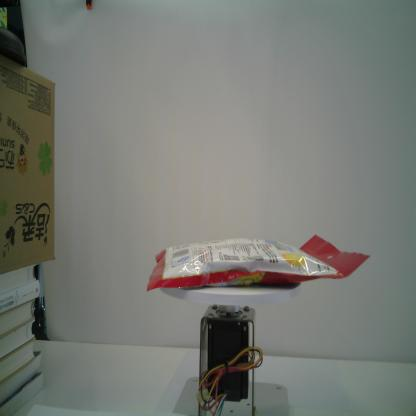Instant Drink: (145, 234, 373, 294)
